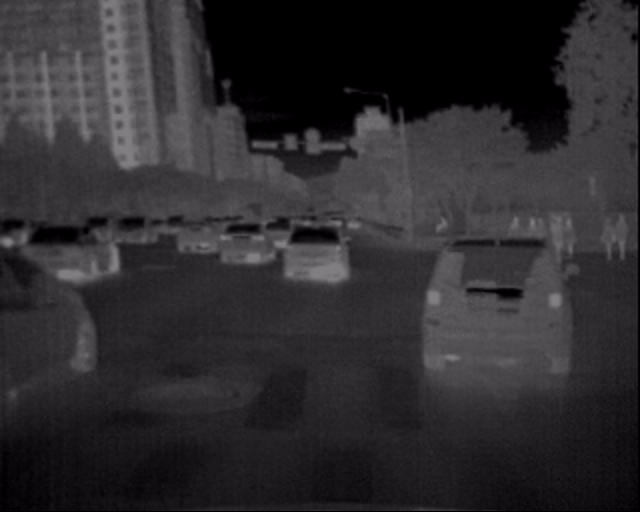person: (525, 214, 554, 271), (604, 216, 629, 266), (617, 212, 640, 266)
